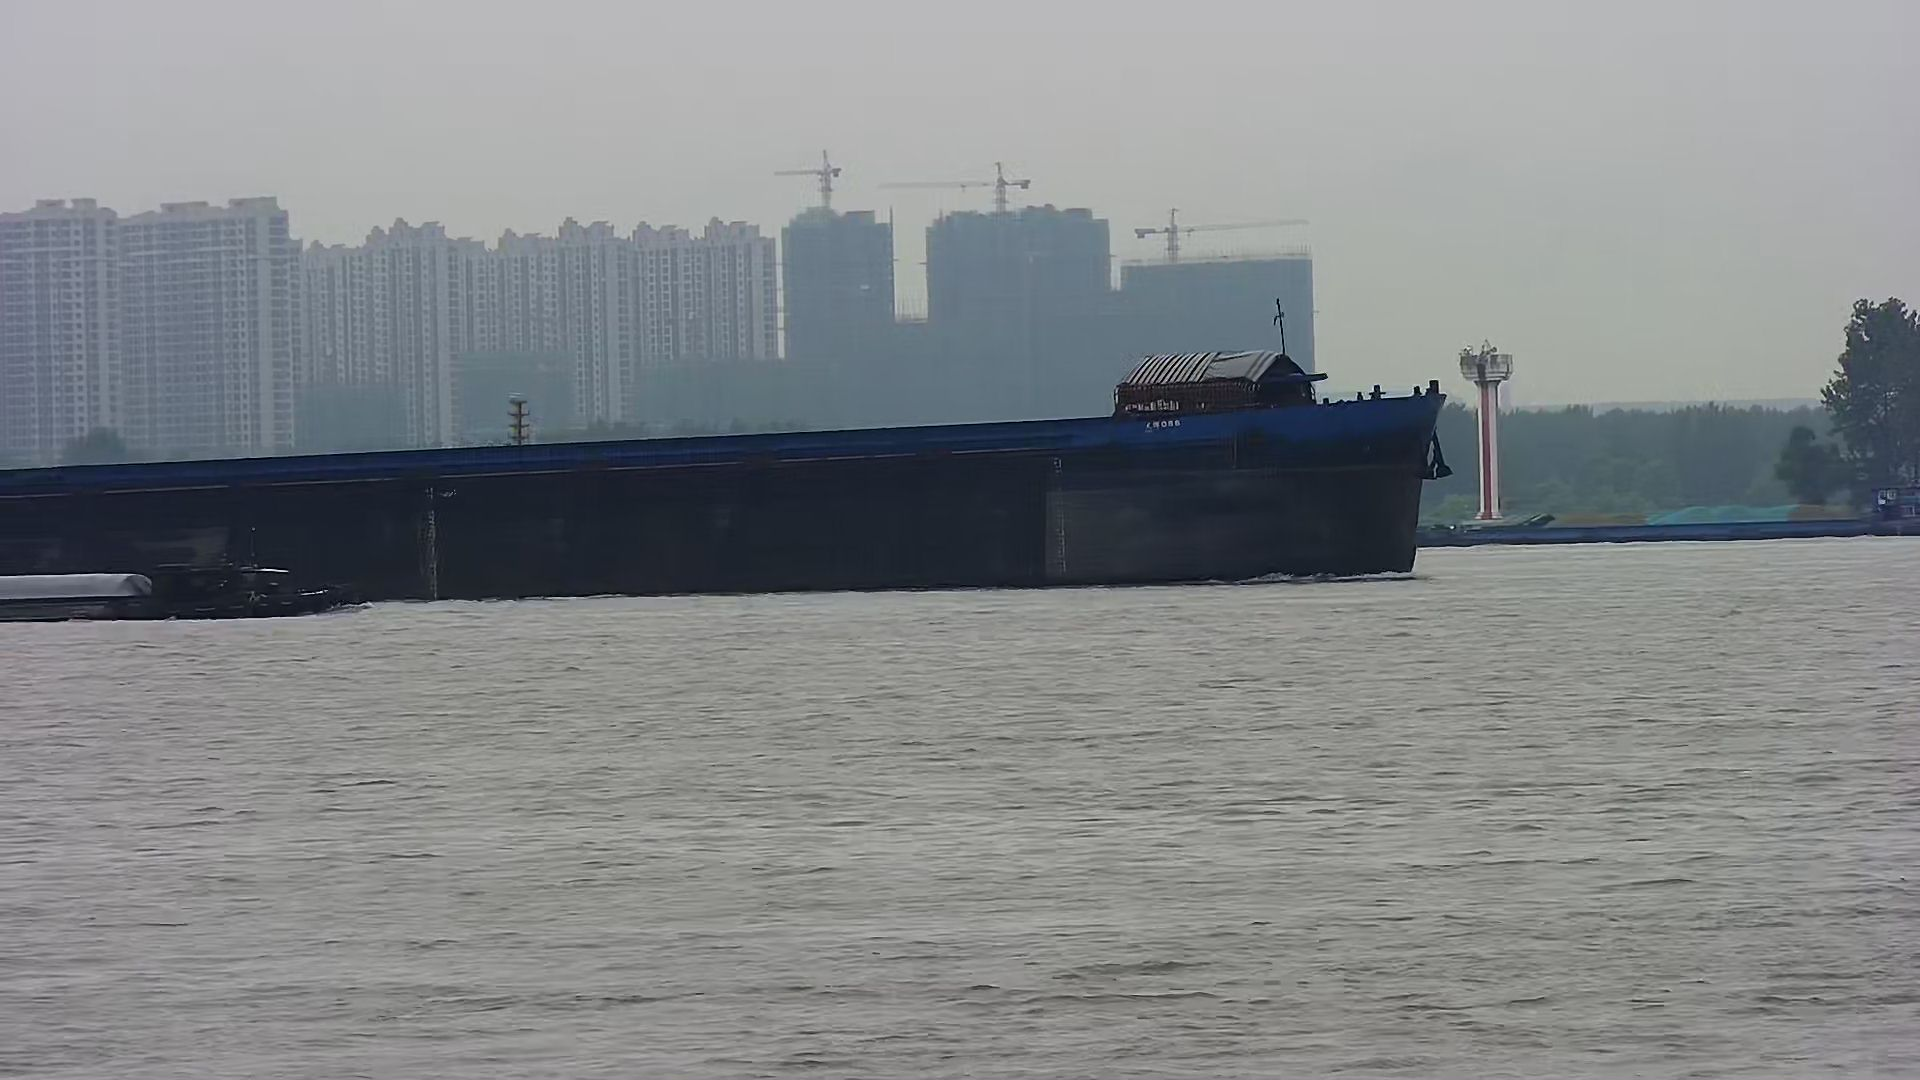ship: (1, 301, 1451, 604), (1, 527, 376, 618), (1418, 487, 1920, 549)
